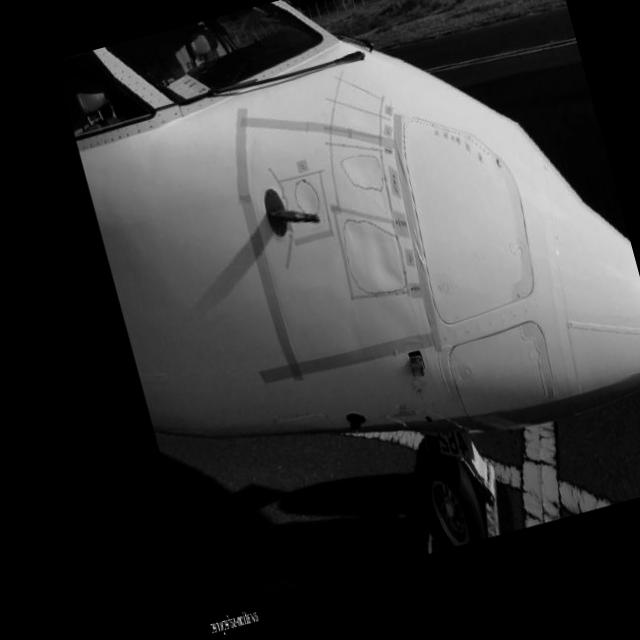dent: (345, 214, 409, 300), (292, 176, 320, 218)
